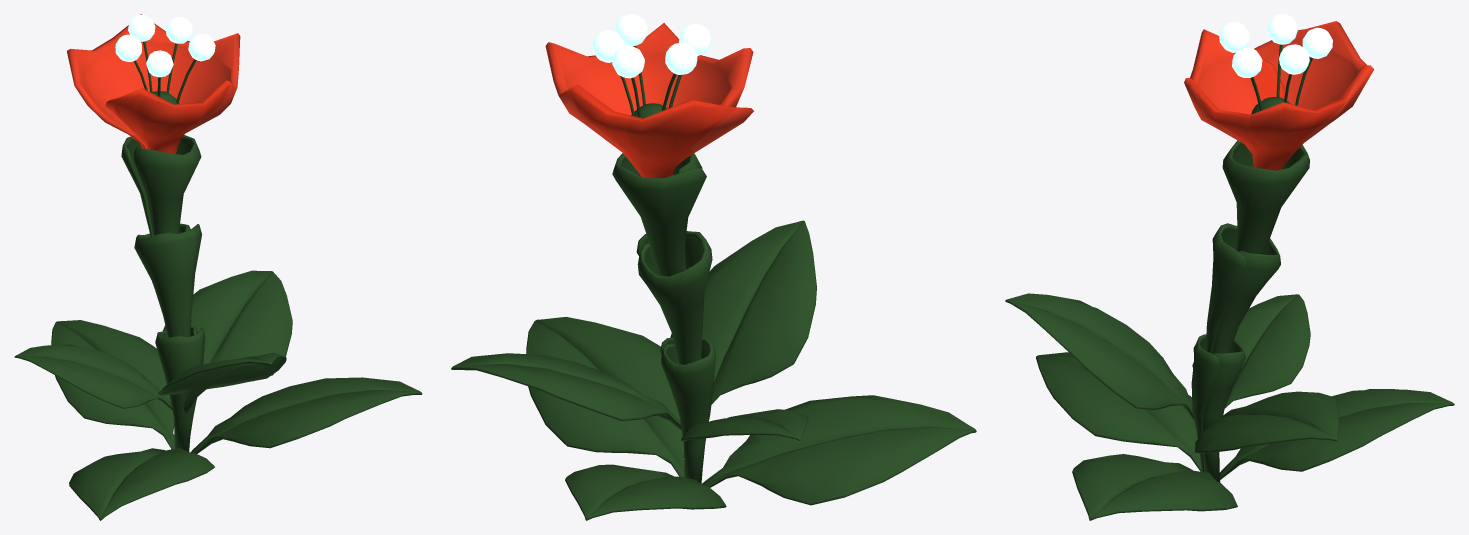
The model's file is Plant_03_merged.fbx.
The picture shows the model from 3 angles, left to right: view 1: azimuth 30°, elevation 25°; view 2: azimuth 150°, elevation 25°; view 3: azimuth 270°, elevation 25°; orthographic projection. The views are drawn at different scales.
Visible parts, largest first — view 1: Plant_03_merged; view 2: Plant_03_merged; view 3: Plant_03_merged.
Boxes of the visible parts, x1,y1,x2,y2 form: Plant_03_merged: (14, 14, 422, 520); Plant_03_merged: (451, 14, 976, 520); Plant_03_merged: (1005, 14, 1454, 520).
Bounding box in the file's own units: 234 × 233 × 266.
